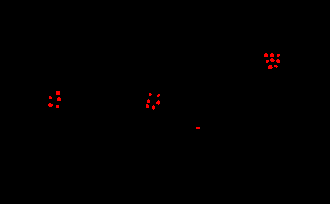Target: (270, 58, 275, 62), (268, 65, 273, 69), (156, 100, 160, 105), (48, 103, 53, 107), (264, 53, 268, 57), (270, 53, 274, 57), (276, 59, 280, 63), (56, 91, 60, 95), (57, 97, 61, 101), (152, 105, 155, 110), (274, 65, 278, 68), (147, 99, 150, 103), (146, 104, 149, 108), (277, 54, 280, 57), (266, 60, 269, 63), (149, 93, 152, 96), (157, 94, 160, 97), (49, 96, 52, 99), (56, 105, 59, 108), (196, 127, 200, 129)
